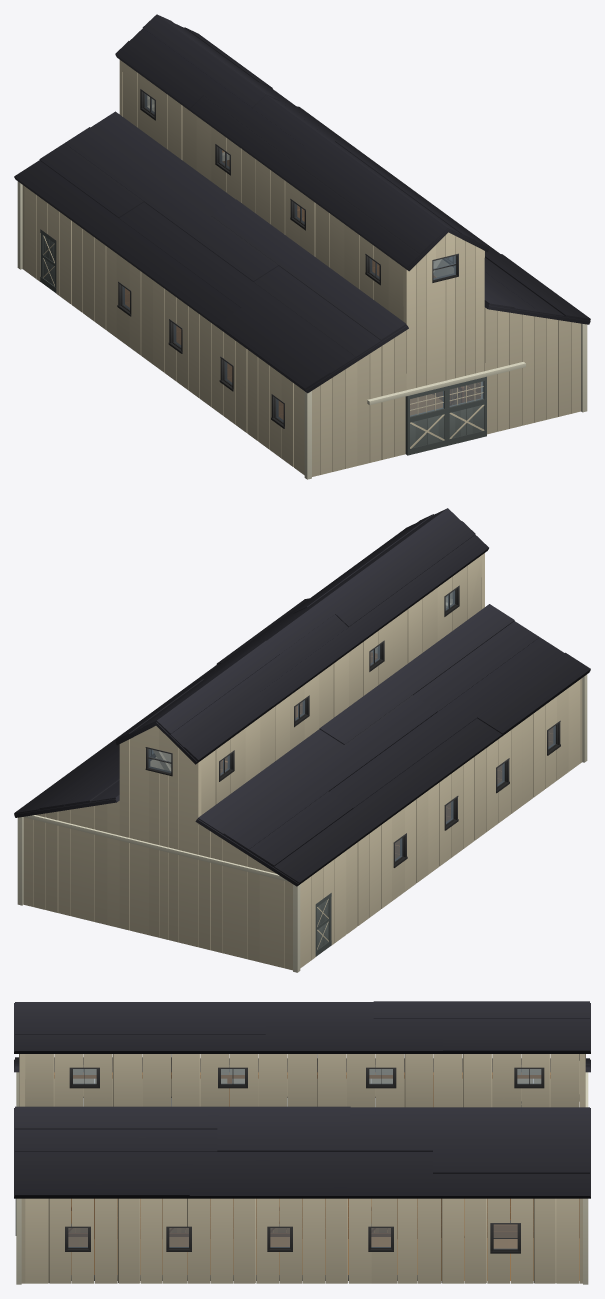
The model's file is Bld_Stable_01.obj.
3 renders of one model, top to bottom at view 1: azimuth 30°, elevation 25°; view 2: azimuth 150°, elevation 25°; view 3: azimuth 270°, elevation 25°, orthographic.
Visible parts, largest first — view 1: Bld_Stable_01, Bld_Stable_Slide_Door_Left_01, Bld_Stable_Slide_Door_Right_01, (_ignore)_Bld_Stable_Windows_01, Bld_Stable_Back_Door_01; view 2: Bld_Stable_01, (_ignore)_Bld_Stable_Windows_01, Bld_Stable_Back_Door_01; view 3: Bld_Stable_01, (_ignore)_Bld_Stable_Windows_01.
Part boxes in pixels (<box>): Bld_Stable_01: <box>14,14,590,479</box>; Bld_Stable_Slide_Door_Left_01: <box>405,386,447,455</box>; Bld_Stable_Slide_Door_Right_01: <box>447,376,486,445</box>; (_ignore)_Bld_Stable_Windows_01: <box>122,94,455,421</box>; Bld_Stable_Back_Door_01: <box>40,229,56,292</box>; Bld_Stable_01: <box>14,508,590,972</box>; (_ignore)_Bld_Stable_Windows_01: <box>148,590,555,861</box>; Bld_Stable_Back_Door_01: <box>315,893,331,956</box>; Bld_Stable_01: <box>14,1001,590,1284</box>; (_ignore)_Bld_Stable_Windows_01: <box>68,1069,541,1249</box>.
Bounding box in the file's own units: 12.36 × 9.03 × 21.87.
2 materials, 1 textured.
